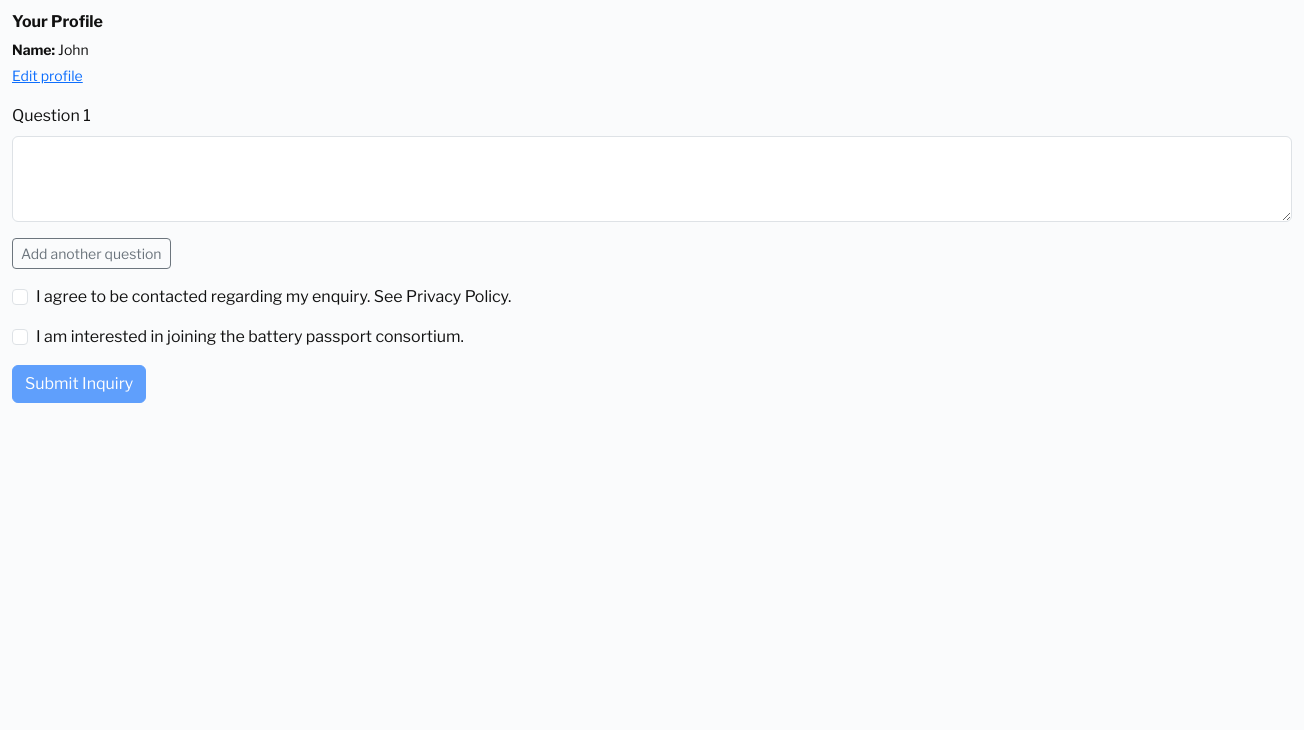
Test case: ContactRequestForm registration fields › reveals and hides the nine fields as the interest box is toggled
The image size is (1304, 730).
Click the checkbox labelled "I am interested in joining the battery passport consortium.".
click(20, 337)  # box [12,329,28,345]
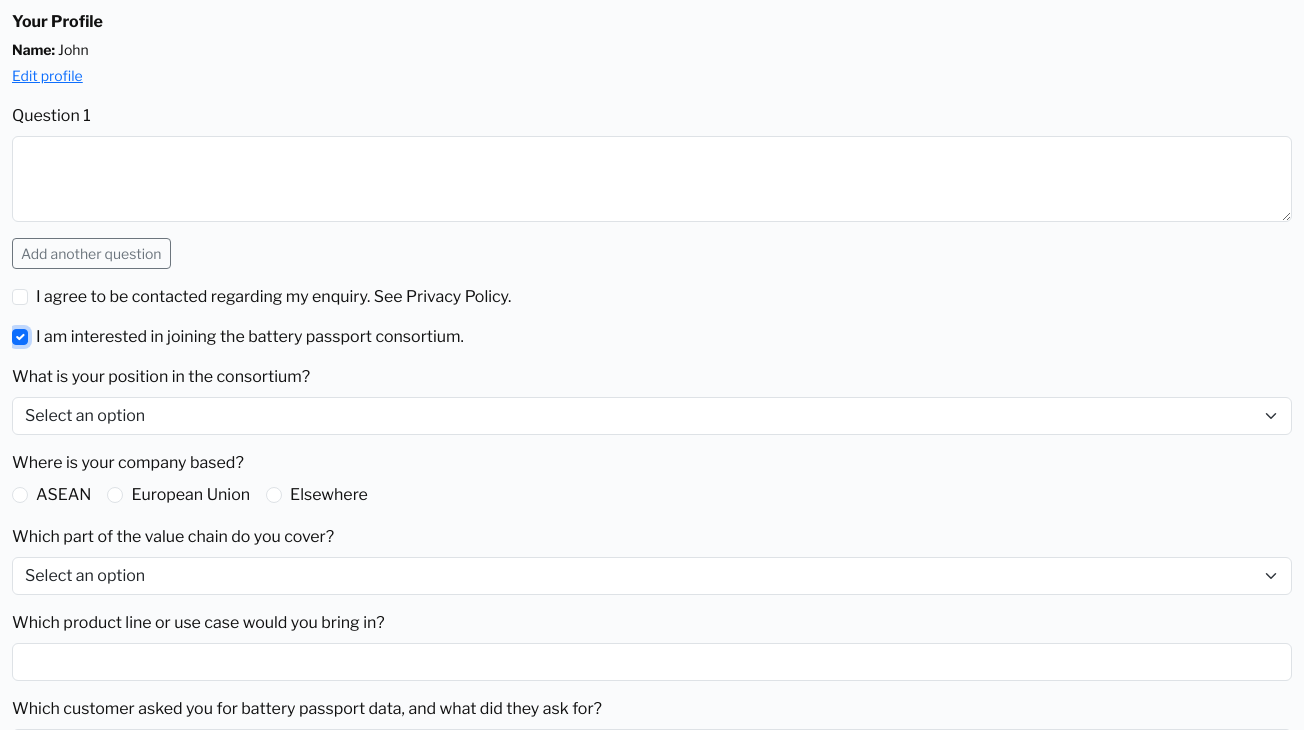
Result: the dropdown labelled "What is your position in the consortium?" is shown at [12,397,1292,435]
Click the checkbox labelled "I am interested in joining the battery passport consortium.".
click(20, 337)  # box [12,329,28,345]
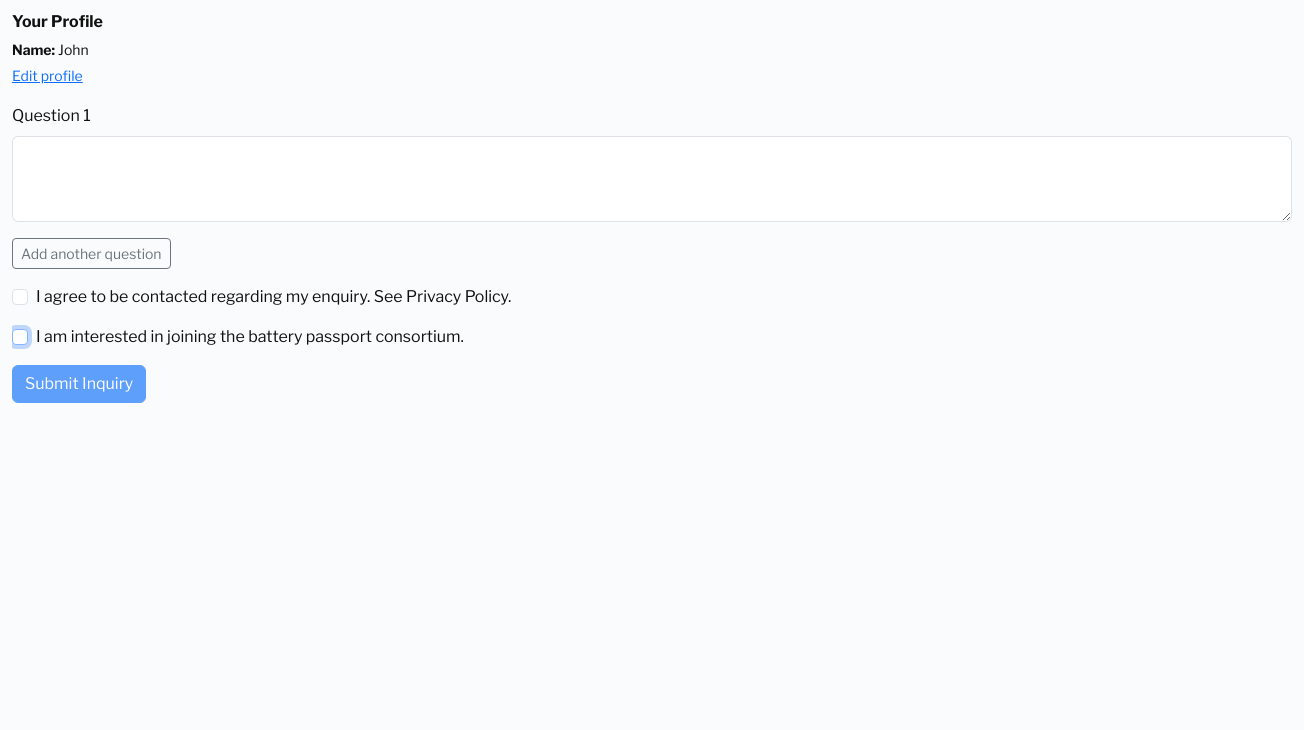
Result: the label labelled "What is your position in the consortium?" is gone
